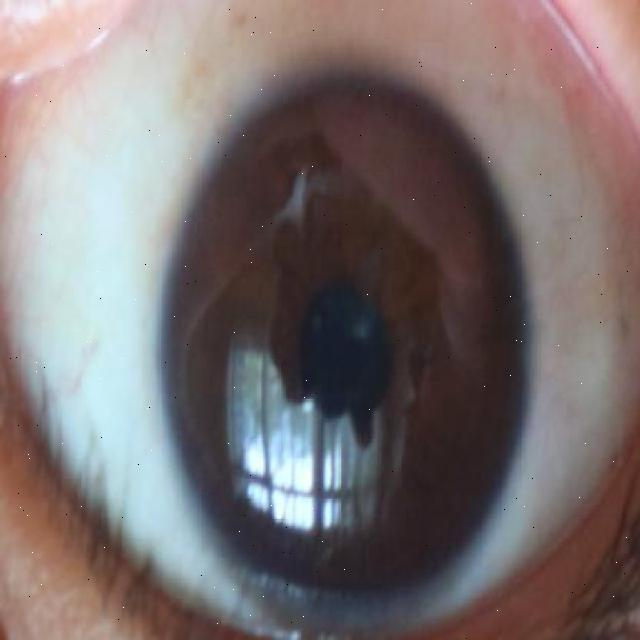Normal: (162, 76, 526, 611)
